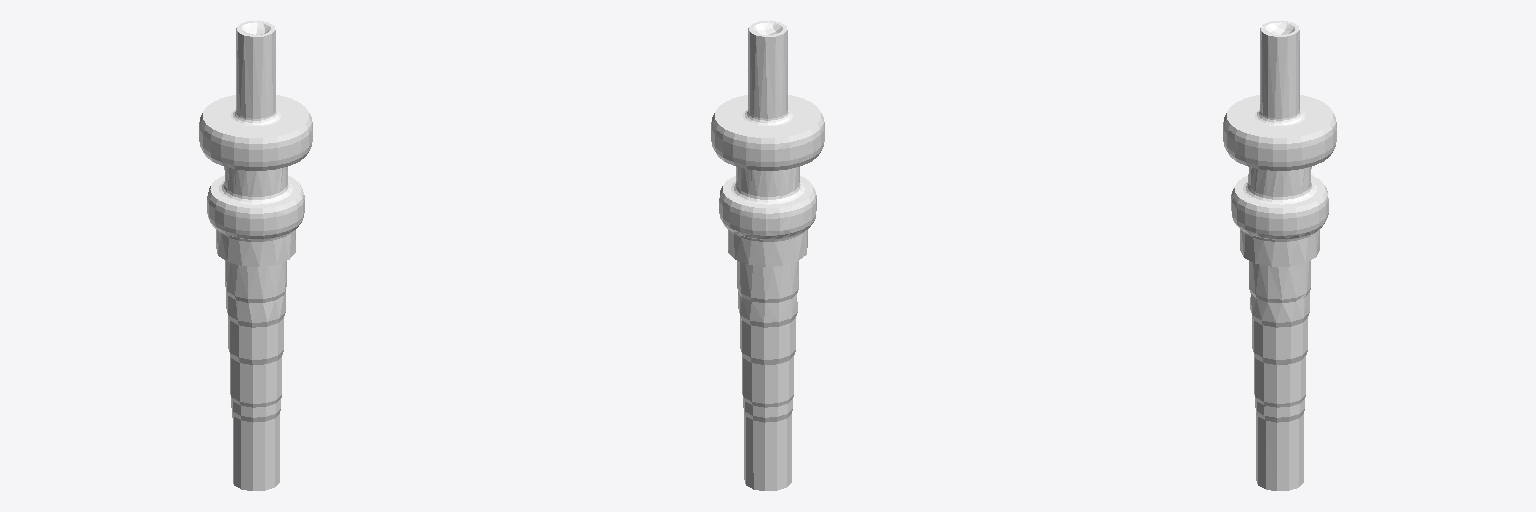
URDF robot description (object):
<?xml version="1.0" encoding="utf-8"?>
<robot name="object">
	<link name="base_link">
		<inertial>
			<origin xyz="9.7954E-04 6.8775E-04 2.3224E-02" rpy="0.0000E+00 0.0000E+00 0.0000E+00"/>
			<mass value="1.0000E+00"/>
			<inertia ixx="1.1218E-05" ixy="2.6855E-10" ixz="2.6855E-10" iyy="1.1218E-05" iyz="-3.1167E-10" izz="6.4777E-07"/>
		</inertial>
		<visual>
			<origin xyz="0.0000E+00 0.0000E+00 0.0000E+00" rpy="0.0000E+00 0.0000E+00 0.0000E+00"/>
			<geometry>
				<mesh filename="2977124808779c09e69c7b94b856ca91.stl" scale="1.0000E+00 1.0000E+00 1.0000E+00"/>
			</geometry>
			<material name="custom">
				<color rgba="1.0000E+00 1.0000E+00 1.0000E+00 1.0000E+00"/>
			</material>
		</visual>
		<collision>
			<origin xyz="0.0000E+00 0.0000E+00 0.0000E+00" rpy="0.0000E+00 0.0000E+00 0.0000E+00"/>
			<geometry>
				<mesh filename="d8e2cd2abbac9b3d7c83803ef773c9de.obj" scale="1.0000E+00 1.0000E+00 1.0000E+00"/>
			</geometry>
		</collision>
		<contact>
			<lateral_friction value="5.0000E-01"/>
			<rolling_friction value="1.0000E-03"/>
			<spinning_friction value="1.0000E-02"/>
			<restitution value="0.0000E+00"/>
		</contact>
	</link>
</robot>

--- Facts derived from the render (not from the file) ---
3 views of the same robot in one strip: view 1: azimuth 30°, elevation 25°; view 2: azimuth 150°, elevation 25°; view 3: azimuth 270°, elevation 25° (orthographic).
Robot: object — 1 links, 0 joints (none); root link base_link; default pose: all joints at 0.
Visible links, largest first — view 1: base_link; view 2: base_link; view 3: base_link.
Link boxes in pixels (bbox=[...]): base_link: bbox=[199, 20, 312, 490]; base_link: bbox=[711, 20, 824, 490]; base_link: bbox=[1223, 20, 1336, 490].
Size in the robot's own frame: 0.0987 by 0.0987 by 0.4358 metres.
1 mesh visuals loaded from 1 distinct referenced files (1 binary STL).